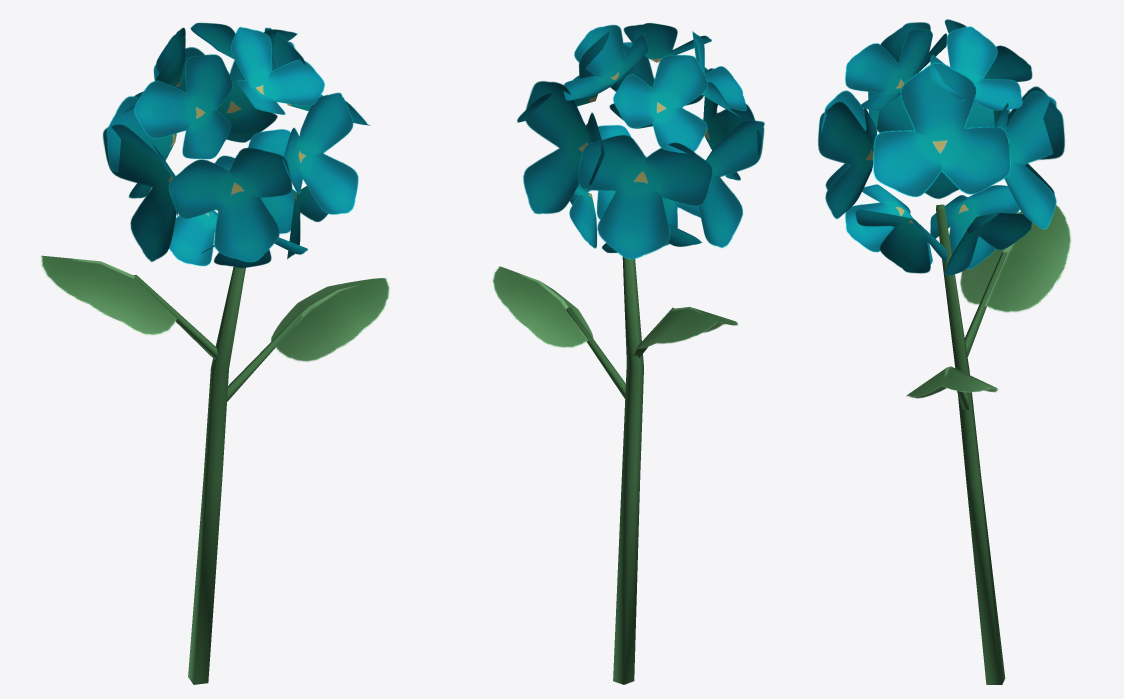
Rendered from cc0-flower-lod0.glb.
3 renders of one model, left to right at view 1: azimuth 30°, elevation 25°; view 2: azimuth 150°, elevation 25°; view 3: azimuth 270°, elevation 25°, orthographic. The views are drawn at different scales.
Visible parts, largest first — view 1: part_0; view 2: part_0; view 3: part_0.
Part boxes in pixels (x1,y1,x2,y2): part_0: [41, 22, 389, 684]; part_0: [492, 23, 764, 684]; part_0: [818, 19, 1071, 684].
Bounding box in the file's own units: 0.2677 × 0.4894 × 0.2044.
Materials: 1 (1 with a texture image).
